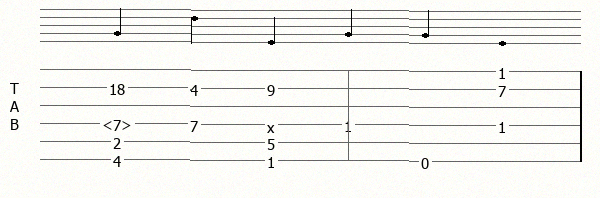0: (421, 153, 433, 168)
1: (267, 153, 279, 168), (344, 117, 356, 132), (498, 117, 510, 132), (498, 63, 510, 78)
18: (109, 81, 129, 96)
2: (113, 135, 125, 150)
4: (113, 153, 125, 168), (190, 81, 202, 96)
5: (267, 135, 279, 150)
7: (190, 117, 202, 132), (498, 81, 510, 96)
9: (267, 81, 279, 96)
harmonic: (102, 117, 136, 132)
x: (267, 118, 279, 130)
